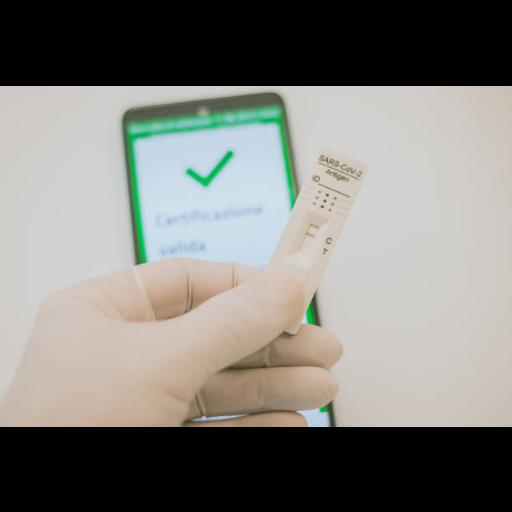Neg: (248, 146, 369, 333)
